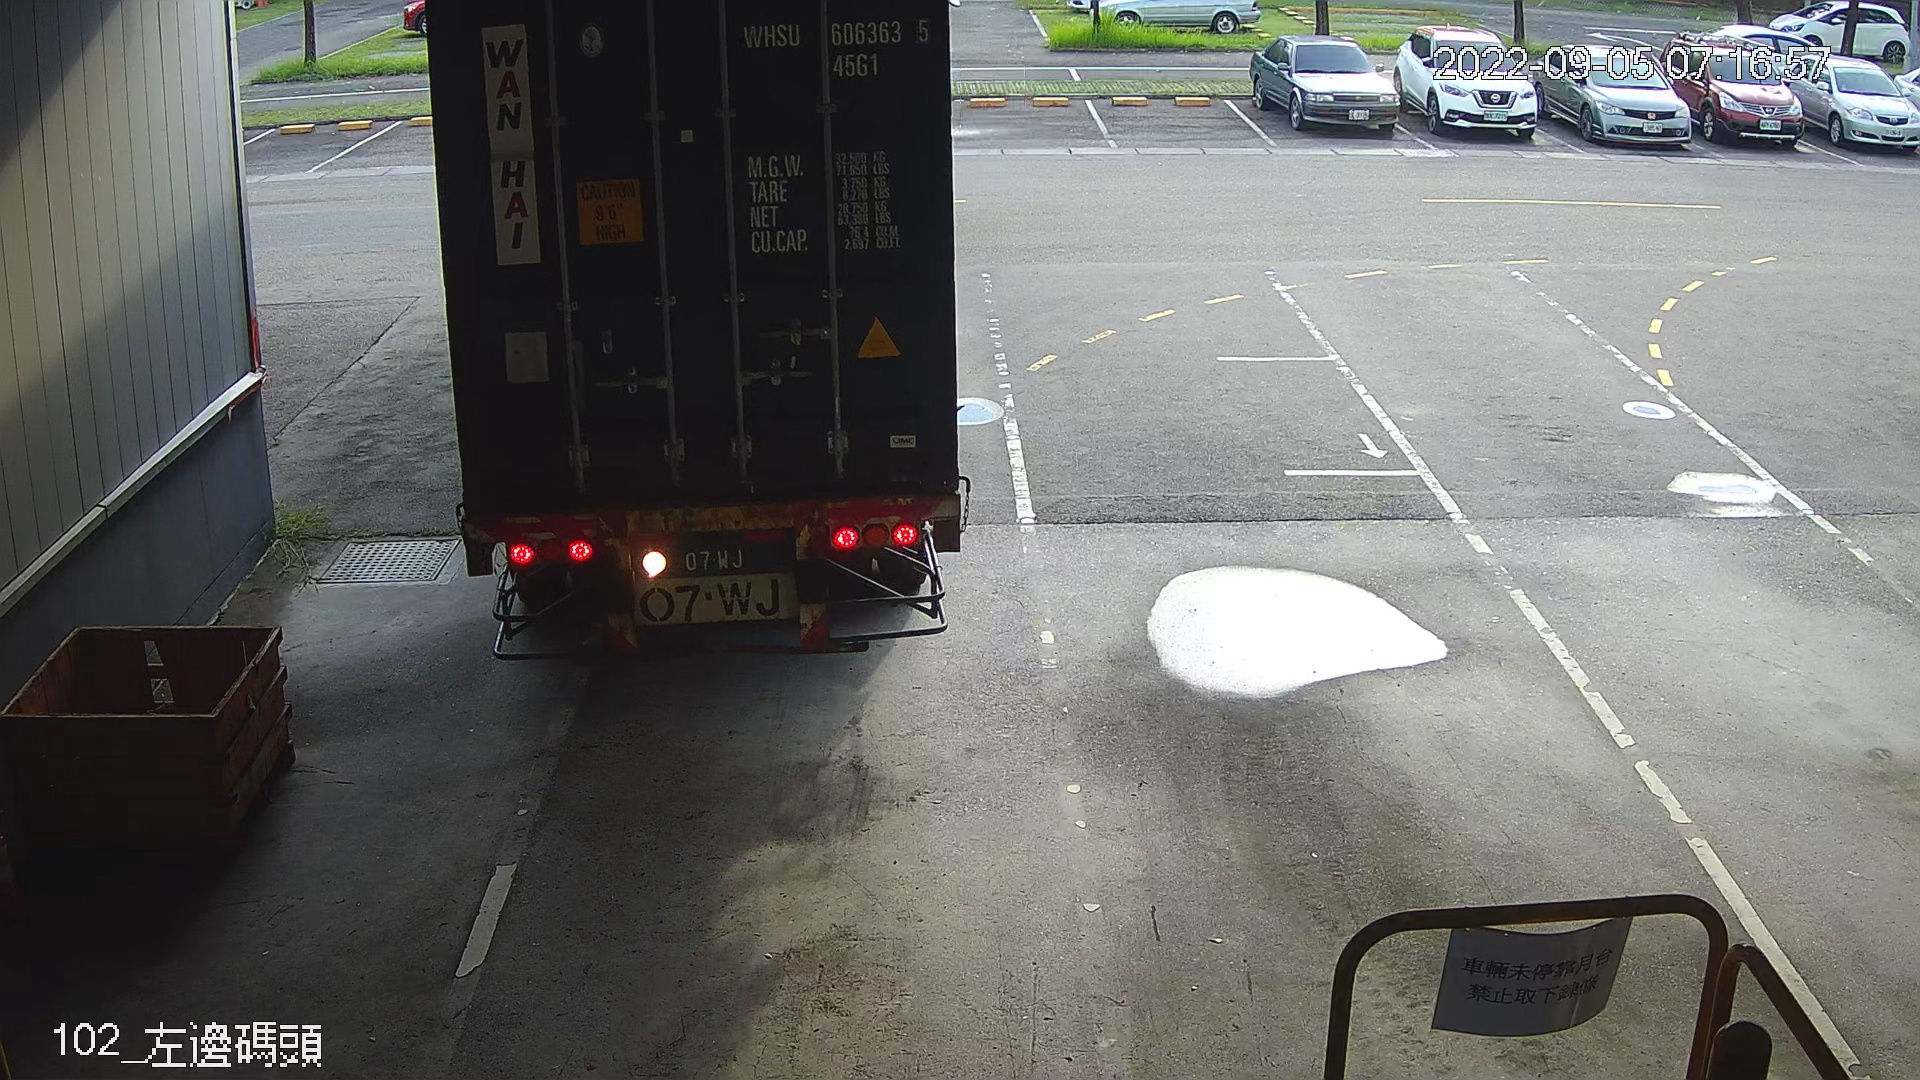container: (735, 11, 939, 86)
